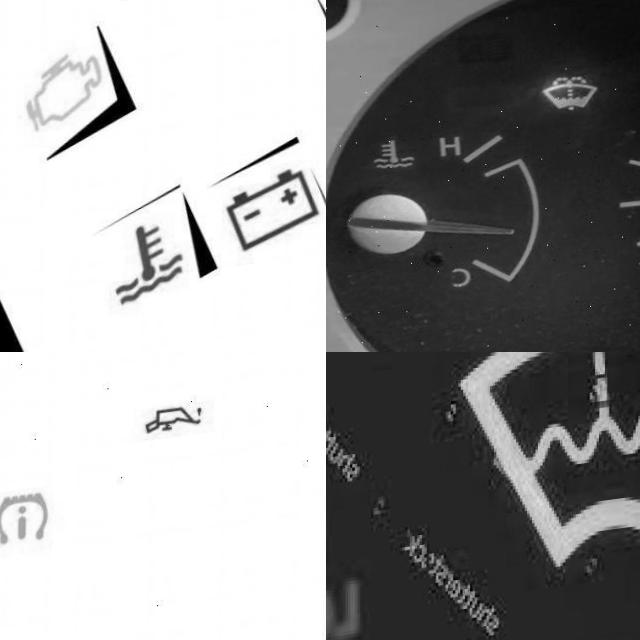Washer Fluid: (457, 352, 640, 589), (542, 78, 599, 123)
